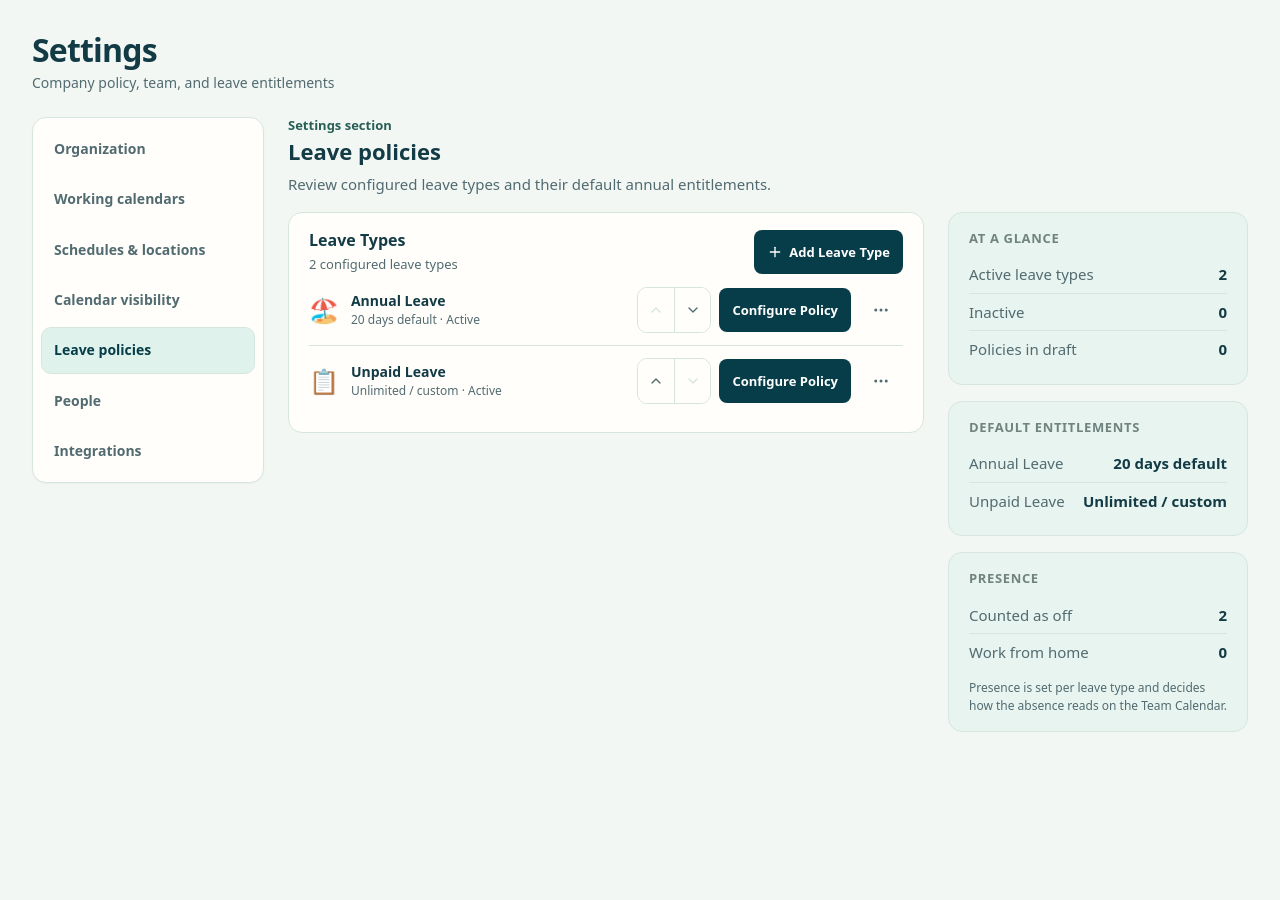
Test: SettingsPage › [P1] maps Leave policies to the read-first leave type list
Expected: the text "Annual Leave" below "2 configured leave types" is shown, x1=351 y1=292 x2=445 y2=310
Expected: the text "20 days default" below "2 configured leave types" is shown, x1=351 y1=312 x2=437 y2=328
Click the tab with test id "settings-category-integrations".
click(148, 451)  # box x1=41 y1=428 x2=255 y2=474
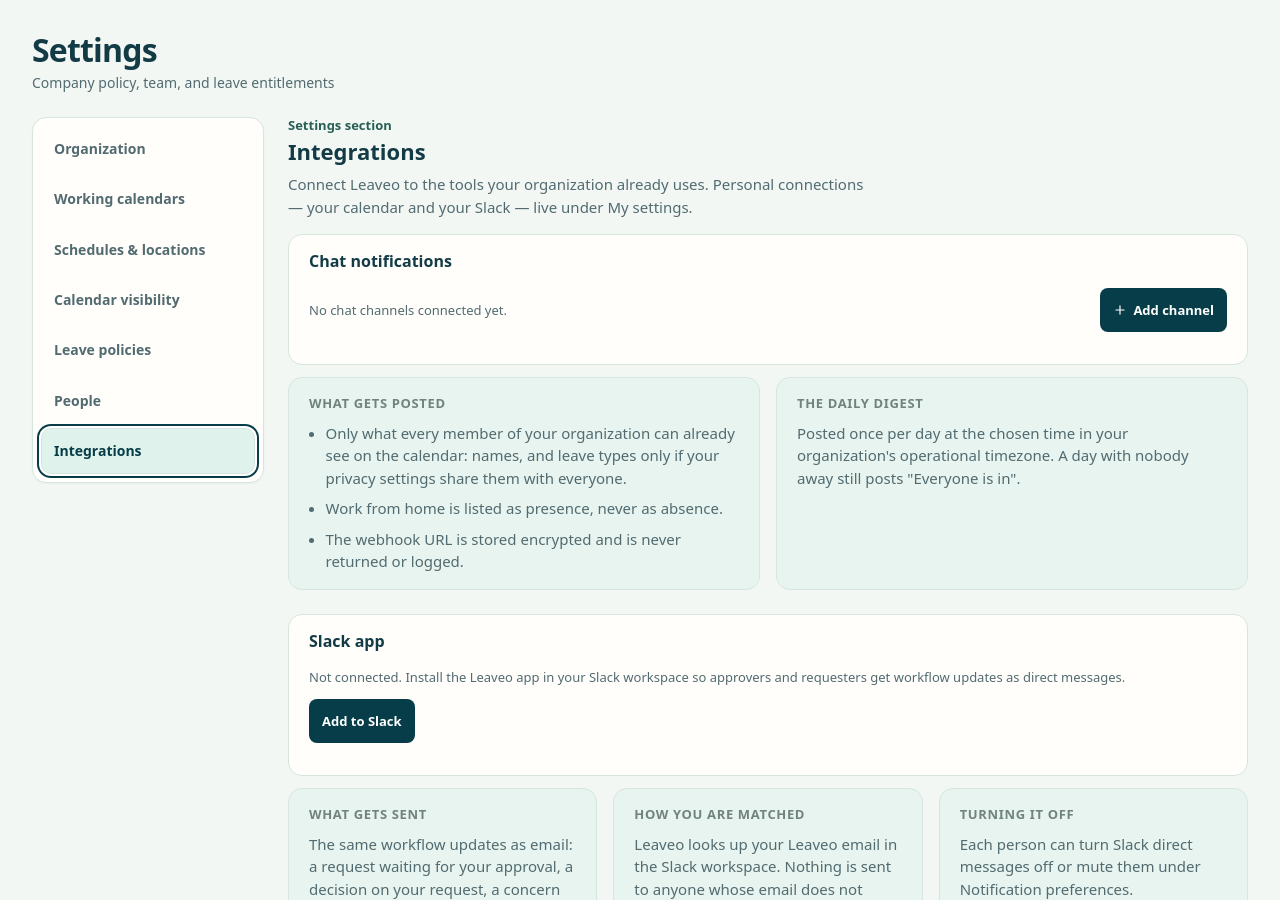
Expected: the element with test id "chat-notifications-settings" is shown, x1=288 y1=234 x2=1248 y2=365
Expected: the element with test id "slack-workspace-settings" is shown, x1=288 y1=614 x2=1248 y2=776
